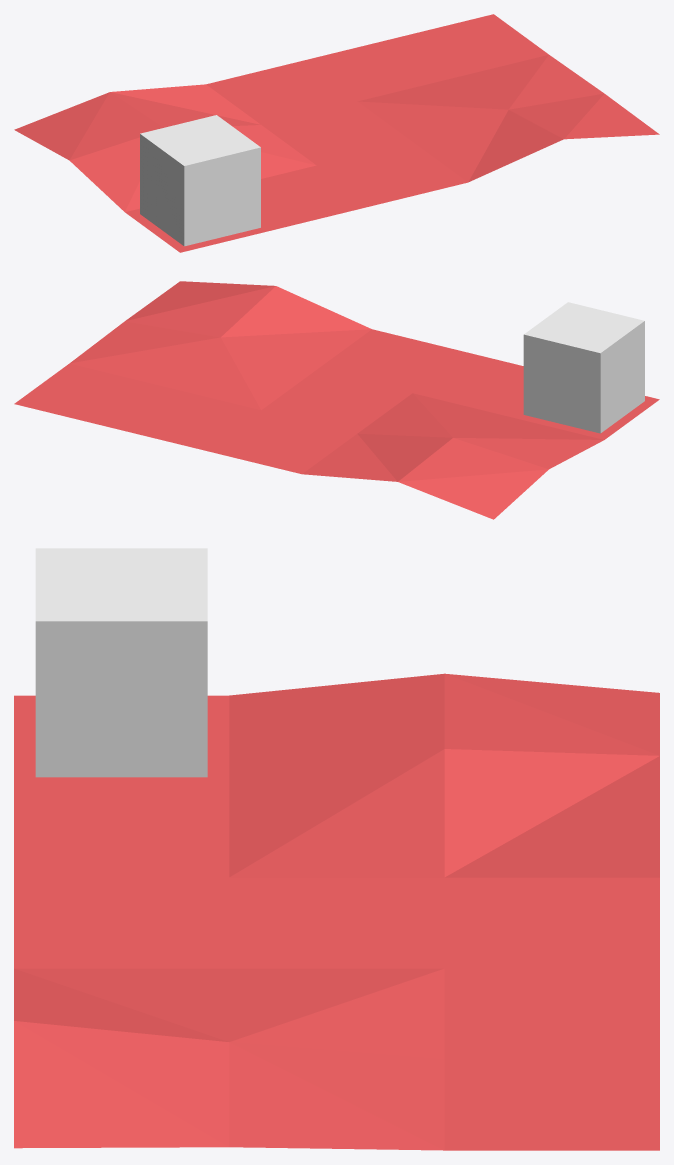
Rendered from Level1.dae.
The picture shows the model from 3 angles, top to bottom: view 1: azimuth 30°, elevation 25°; view 2: azimuth 150°, elevation 25°; view 3: azimuth 270°, elevation 25°; orthographic projection. The views are drawn at different scales.
Parts seen in each view (by area): view 1: surface, Blocky; view 2: surface, Blocky; view 3: surface, Blocky.
Boxes of the visible parts, x1=… form: surface: x1=14, y1=14, x2=659, y2=252; Blocky: x1=140, y1=115, x2=260, y2=246; surface: x1=14, y1=281, x2=659, y2=519; Blocky: x1=523, y1=302, x2=644, y2=433; surface: x1=14, y1=673, x2=659, y2=1150; Blocky: x1=35, y1=548, x2=207, y2=777.
Bounding box in the file's own units: 5 × 3 × 0.8.
